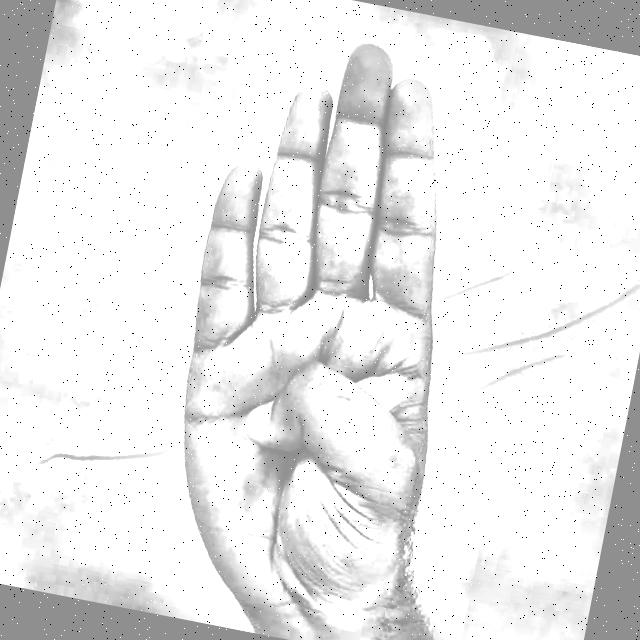Ba: (104, 0, 558, 640)
